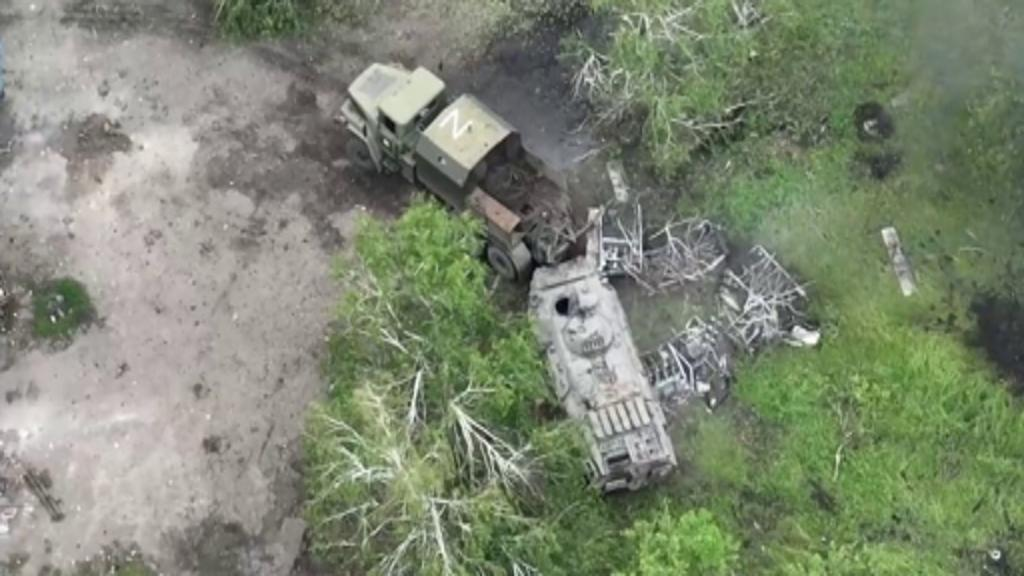APC-IFV: (528, 266, 680, 493)
TRUCK: (334, 55, 580, 266)
